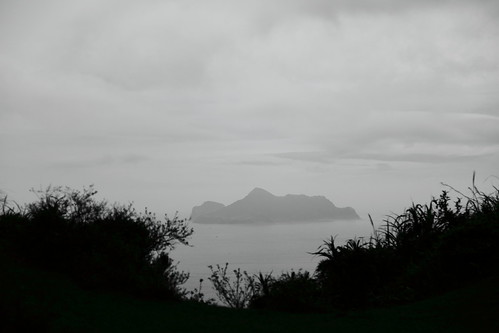turtleIslandLeft: (190, 187, 363, 221)
